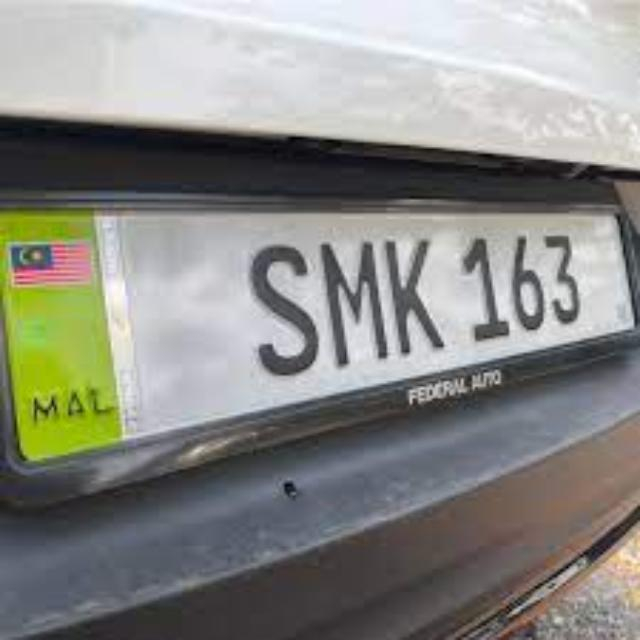License_Plate: (4, 197, 640, 467)
